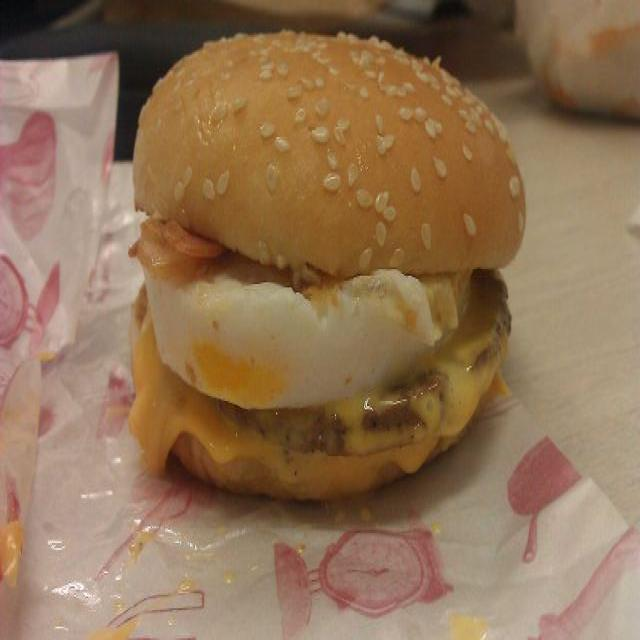Hamburger: (120, 24, 535, 496)
